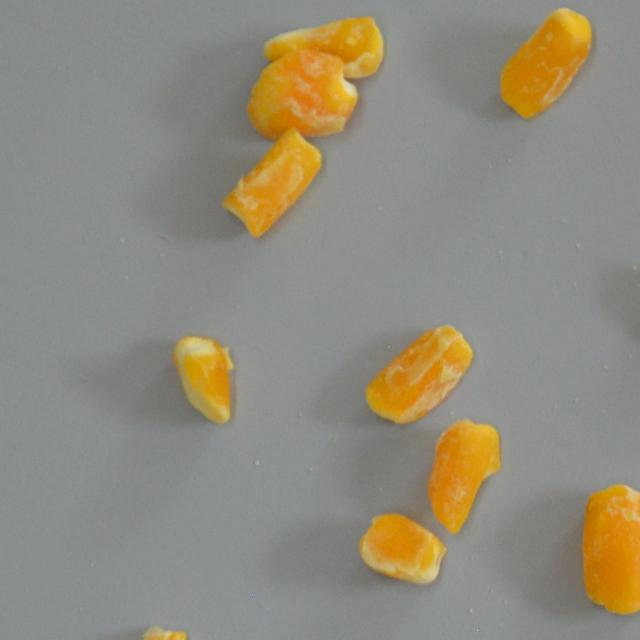pelicula: (366, 296, 472, 426), (416, 406, 522, 536), (493, 2, 599, 132), (218, 116, 324, 246), (157, 314, 263, 444), (244, 41, 358, 142), (566, 469, 640, 618), (262, 8, 383, 82), (343, 507, 448, 590), (103, 606, 209, 640)
